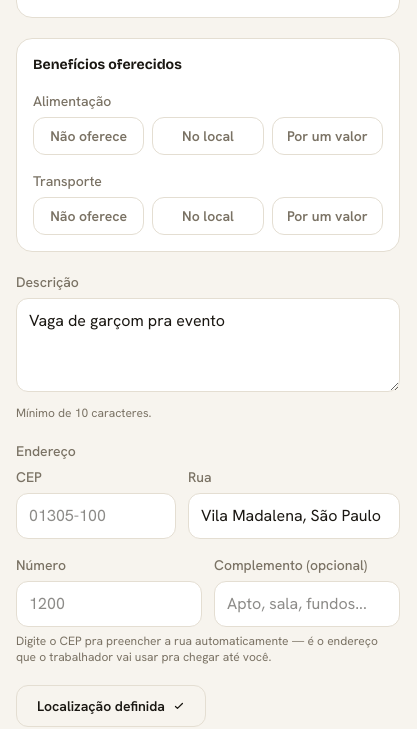
Scenario: EditarVagaPage › mostra o que falta preencher quando o botão de salvar está desabilitado
(page scrolled)
Clear the text box labelled "Descrição" at (208, 345), box [16, 298, 400, 392]
(page scrolled)
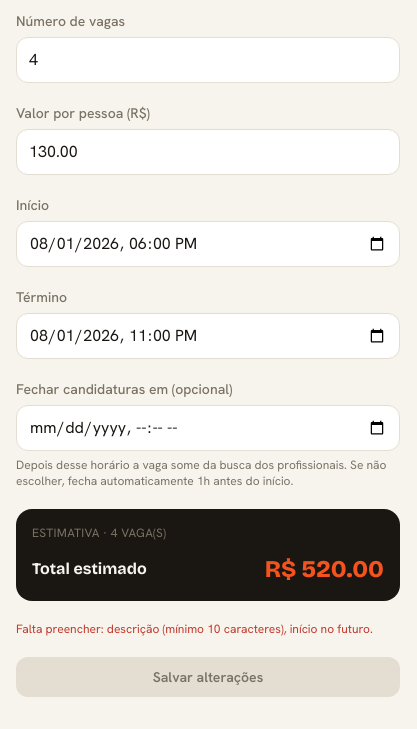
expect the button "Salvar alterações" is disabled: met, box [16, 657, 400, 697]
expect the text "Falta preencher:" shows "descrição": met, box [107, 621, 370, 637]
